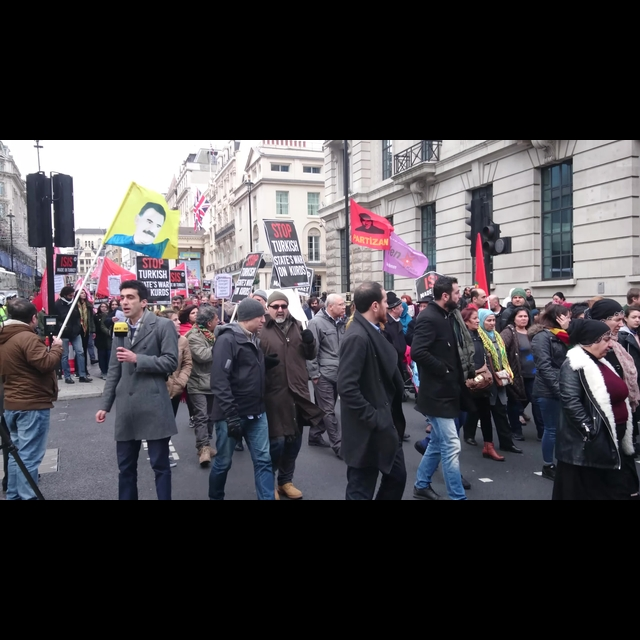APO: (134, 200, 165, 242)
